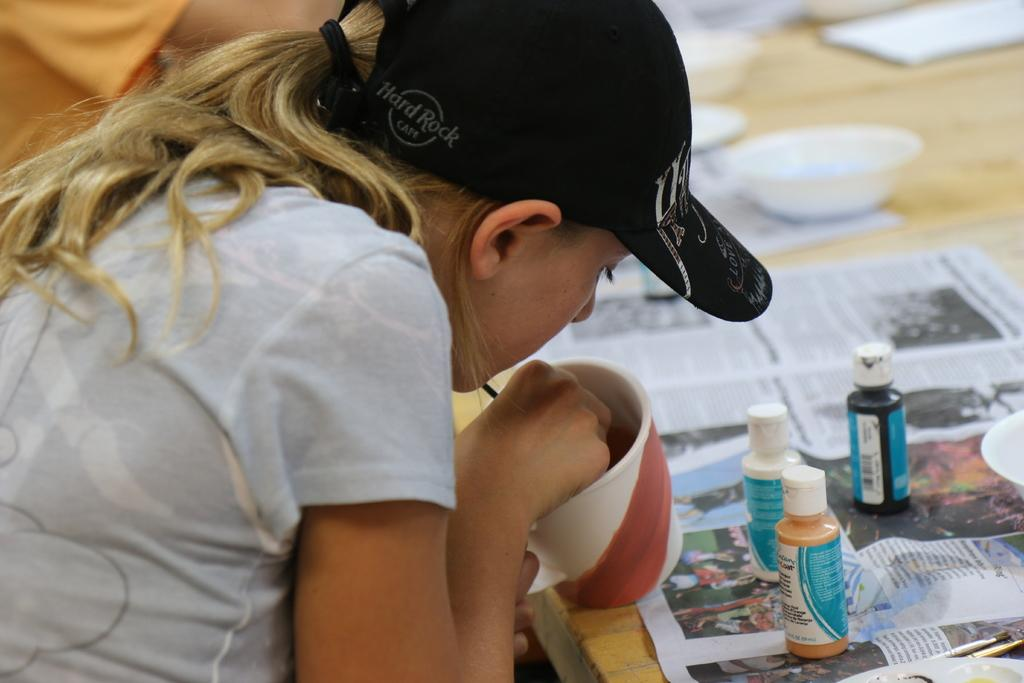Hat: (290, 0, 788, 367)
